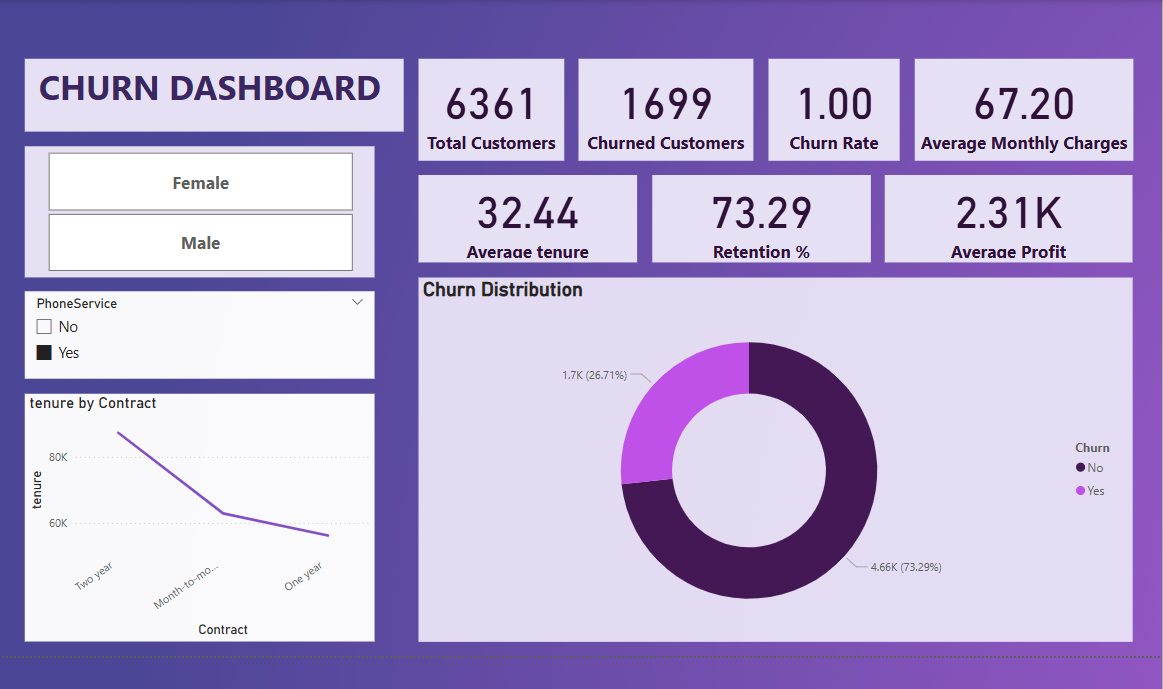

Layout of this report page (visuals, bound fields, positions):
{"tool":"powerbi","page":{"name":"1-Executive Summary","canvas":[1280,720],"ordinal":0},"visuals":[{"type":"card","fields":{"Values":["CountNonNull(TelcoCustChurnTable.customerID)"]},"box":[464,64,160,112],"z":0},{"type":"card","fields":{"Values":["TelcoCustChurnTable.01 Count of Churn for Yes"]},"box":[640,64,192,112],"z":1000},{"type":"card","fields":{"Values":["TelcoCustChurnTable.Count of Churn divided by Count of customerID"]},"box":[848,64,144,112],"z":2000},{"type":"card","fields":{"Values":["Avg(TelcoCustChurnTable.MonthlyCharges)"]},"box":[1008,64,240,112],"z":3000},{"type":"donutChart","title":"Churn Distribution","fields":{"Y":["CountNonNull(TelcoCustChurnTable.Churn)"],"Category":["TelcoCustChurnTable.Churn"]},"box":[464,304,784,400],"z":4000},{"type":"card","fields":{"Values":["TelcoCustChurnTable.03 Avg tenure"]},"box":[464,192,240,96],"z":5000},{"type":"card","fields":{"Values":["TelcoCustChurnTable.04 Avg Profit"]},"box":[976,192,272,96],"z":6000},{"type":"card","fields":{"Values":["TelcoCustChurnTable.05 Retention %"]},"box":[720,192,240,96],"z":7000},{"type":"slicer","fields":{"Values":["TelcoCustChurnTable.gender"]},"box":[32,160,384,144],"z":8000},{"type":"textbox","box":[32,64,416,80],"z":9000},{"type":"slicer","fields":{"Values":["TelcoCustChurnTable.PhoneService"]},"box":[32,320,384,96],"z":10000},{"type":"lineChart","fields":{"Category":["TelcoCustChurnTable.Contract"],"Y":["Sum(TelcoCustChurnTable.tenure)"]},"box":[32,432,384,272],"z":11000}]}

Visuals, with their boxes on the page's 1280x720 design canvas (x1, y1, x2, y2). These are canvas units, not pixel positions in the 1163x689 screenshot, which may show the page scaled, cropped or inside an application window:
card - CountNonNull(TelcoCustChurnTable.customerID): box(464, 64, 624, 176)
card - TelcoCustChurnTable.01 Count of Churn for Yes: box(640, 64, 832, 176)
card - TelcoCustChurnTable.Count of Churn divided by Count of customerID: box(848, 64, 992, 176)
card - Avg(TelcoCustChurnTable.MonthlyCharges): box(1008, 64, 1248, 176)
"Churn Distribution" donutChart: box(464, 304, 1248, 704)
card - TelcoCustChurnTable.03 Avg tenure: box(464, 192, 704, 288)
card - TelcoCustChurnTable.04 Avg Profit: box(976, 192, 1248, 288)
card - TelcoCustChurnTable.05 Retention %: box(720, 192, 960, 288)
slicer - TelcoCustChurnTable.gender: box(32, 160, 416, 304)
textbox: box(32, 64, 448, 144)
slicer - TelcoCustChurnTable.PhoneService: box(32, 320, 416, 416)
lineChart - TelcoCustChurnTable.Contract x Sum(TelcoCustChurnTable.tenure): box(32, 432, 416, 704)
